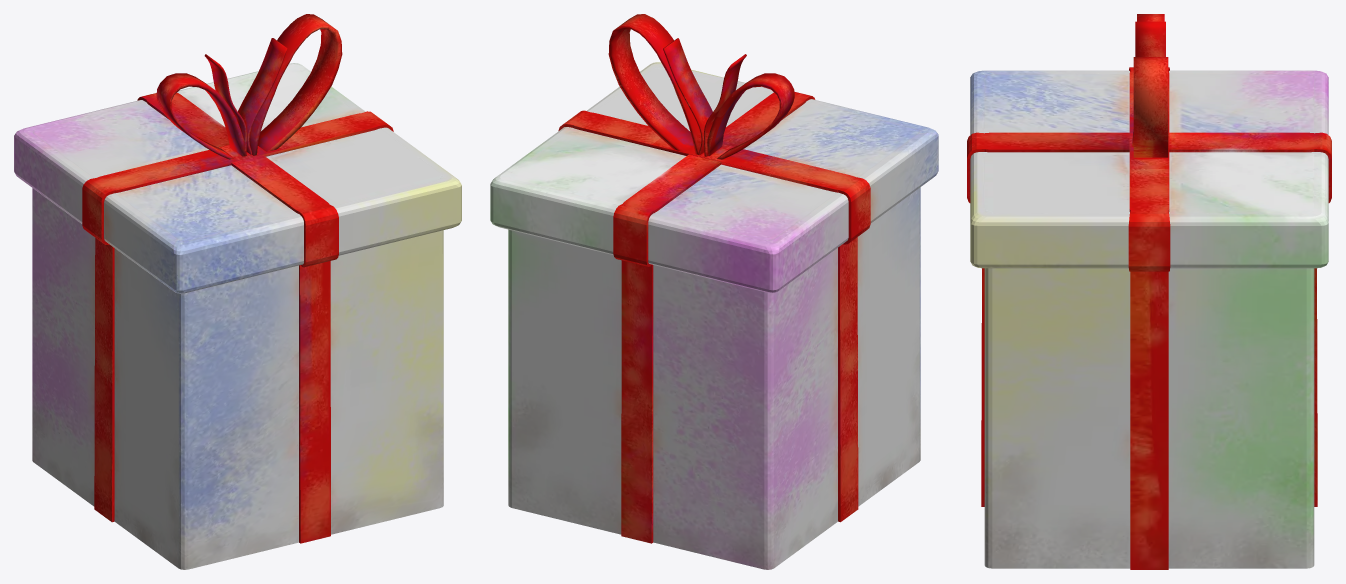
File: gift-two.glb
The picture shows the model from 3 angles, left to right: view 1: azimuth 30°, elevation 25°; view 2: azimuth 150°, elevation 25°; view 3: azimuth 270°, elevation 25°; orthographic projection. The views are drawn at different scales.
Parts seen in each view (by area): view 1: Giftbox_GiftMat_0; view 2: Giftbox_GiftMat_0; view 3: Giftbox_GiftMat_0.
Boxes of the visible parts, bbox=[...] form: Giftbox_GiftMat_0: bbox=[14, 14, 461, 569]; Giftbox_GiftMat_0: bbox=[490, 14, 938, 569]; Giftbox_GiftMat_0: bbox=[967, 14, 1331, 569].
Size of the model in its own units: 2.21 by 3.21 by 2.21.
1 material, 1 textured.
